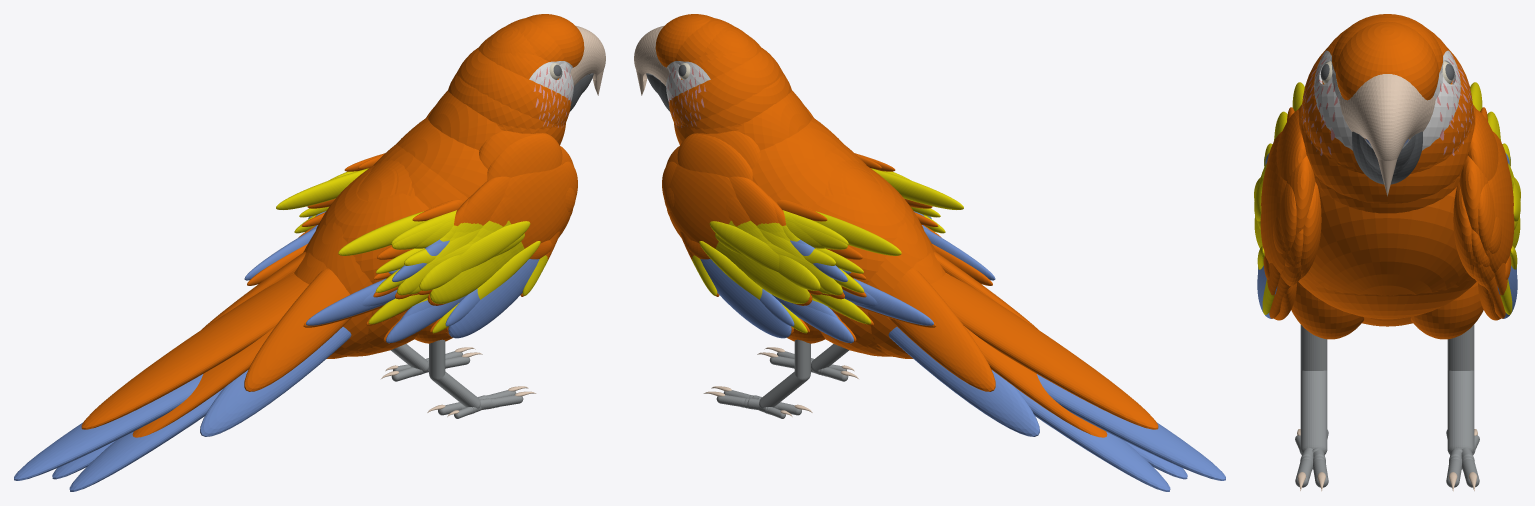
The model's file is wings-0.glb.
The picture shows the model from 3 angles, left to right: view 1: azimuth 30°, elevation 25°; view 2: azimuth 150°, elevation 25°; view 3: azimuth 270°, elevation 25°; orthographic projection. The views are drawn at different scales.
Visible parts, largest first — view 1: Mesh_Mesh_head_geo.001_lambert2SG.001; view 2: Mesh_Mesh_head_geo.001_lambert2SG.001; view 3: Mesh_Mesh_head_geo.001_lambert2SG.001.
Boxes of the visible parts, x1,y1,x2,y2 form: Mesh_Mesh_head_geo.001_lambert2SG.001: (14, 14, 605, 491); Mesh_Mesh_head_geo.001_lambert2SG.001: (634, 14, 1225, 491); Mesh_Mesh_head_geo.001_lambert2SG.001: (1254, 14, 1520, 491).
Bounding box in the file's own units: 0.1451 × 0.0822 × 0.04.
